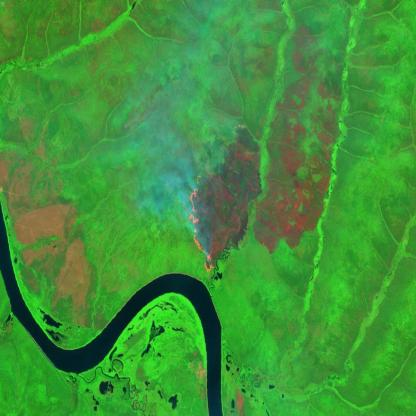fire: (187, 172, 215, 276), (232, 120, 248, 133)
